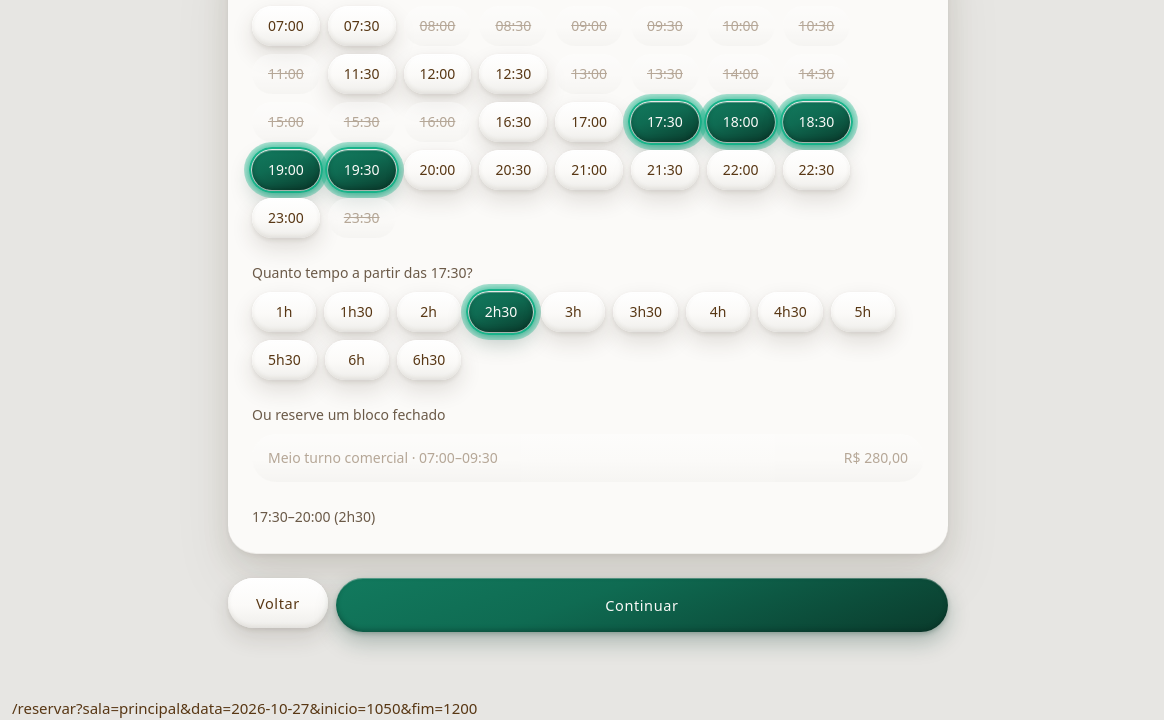
Test: BookingFlowPage steps (NUC-98) › keeps the selection when going back to Sala e data
(page scrolled)
expect the button "2h30" is shown: met, box [469, 292, 533, 332]
What coordinates should you click on to do the following:
click the button "Voltar"
I would click on:
 (278, 603)
Its box is [228, 578, 328, 628].
(page scrolled)
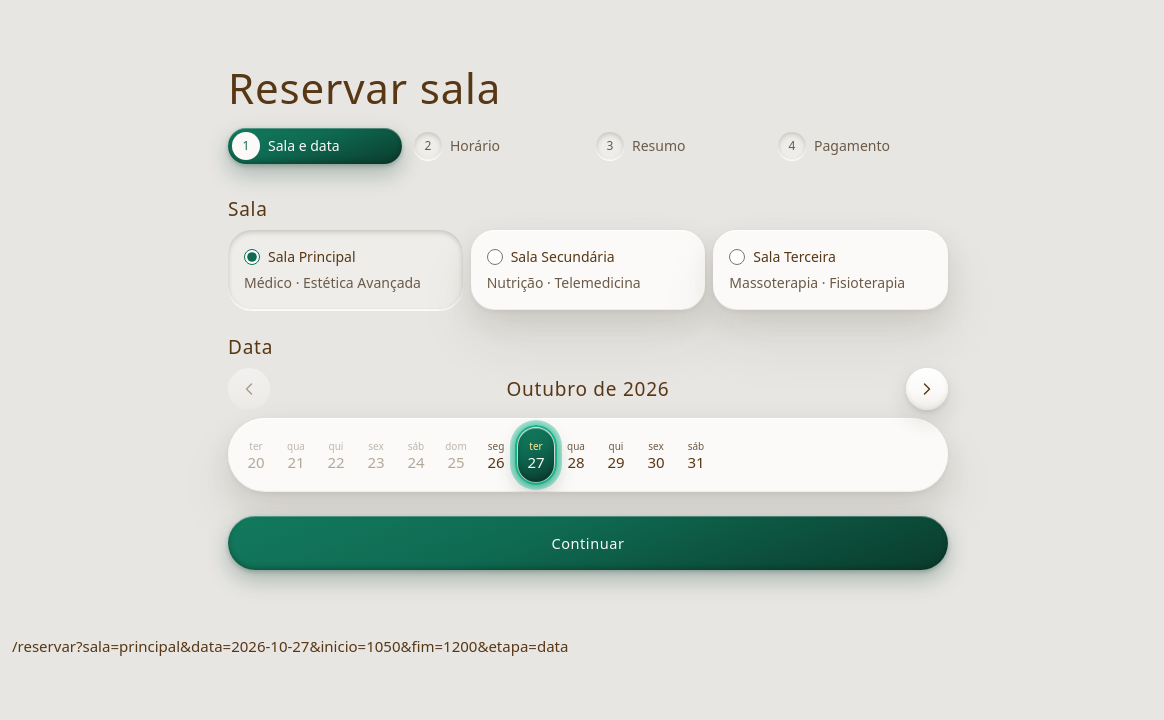
expect the radio button labelled "Sala Principal Médico · Estética Avançada" is checked: met, box [244, 249, 260, 265]
